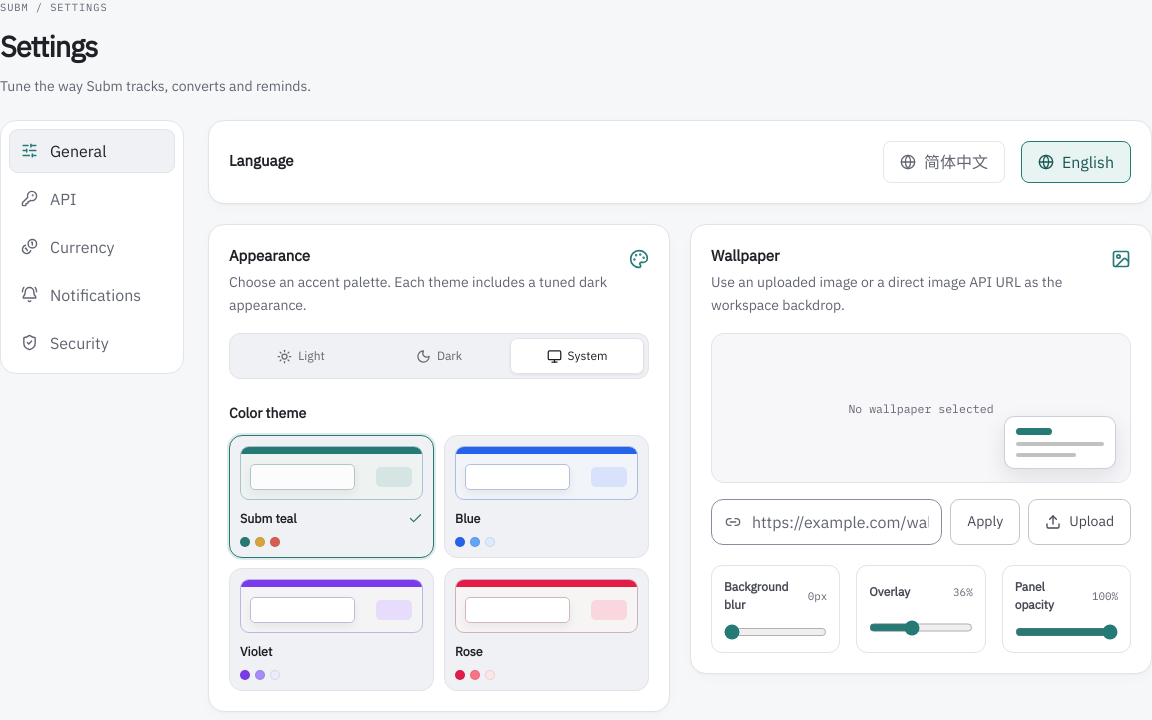
Test: keeps keyboard focus in a settings error dialog and restores it on Escape
Click the button "Security" at (92, 343), box [9,321,175,365]
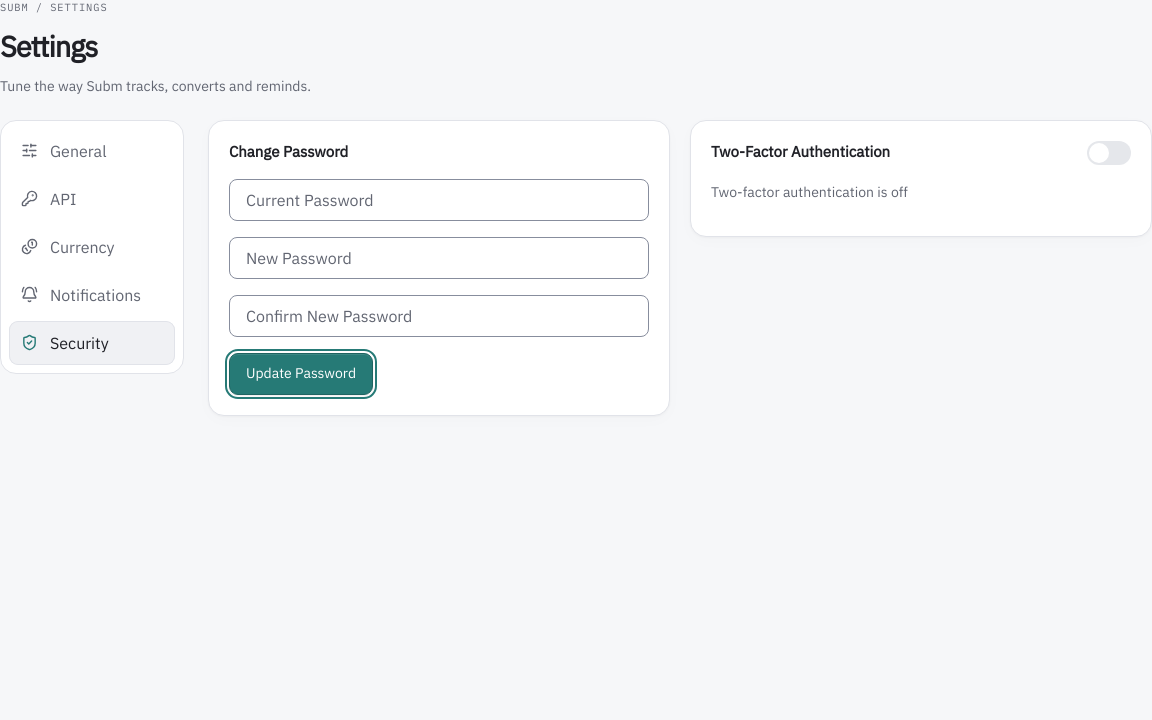
Click the button "Update Password" at (301, 374), box [229,353,373,395]
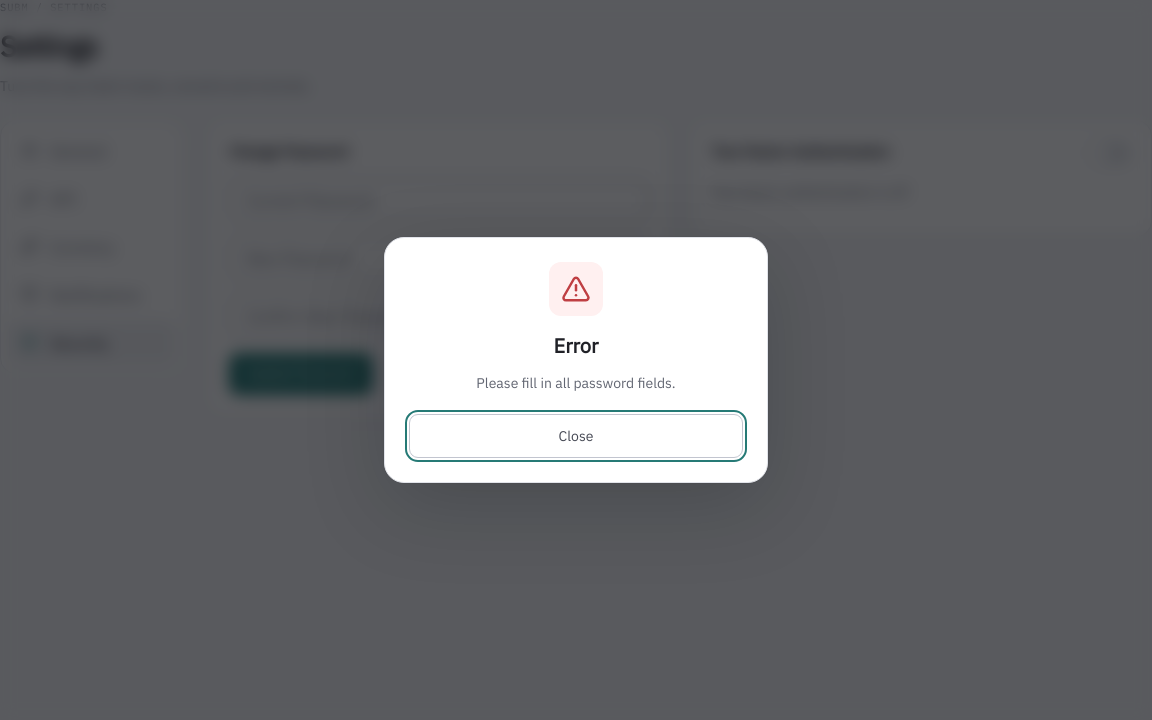
Press Tab in the button "Close", box [409,414,743,458]
Press Escape in the button "Close", box [409,414,743,458]
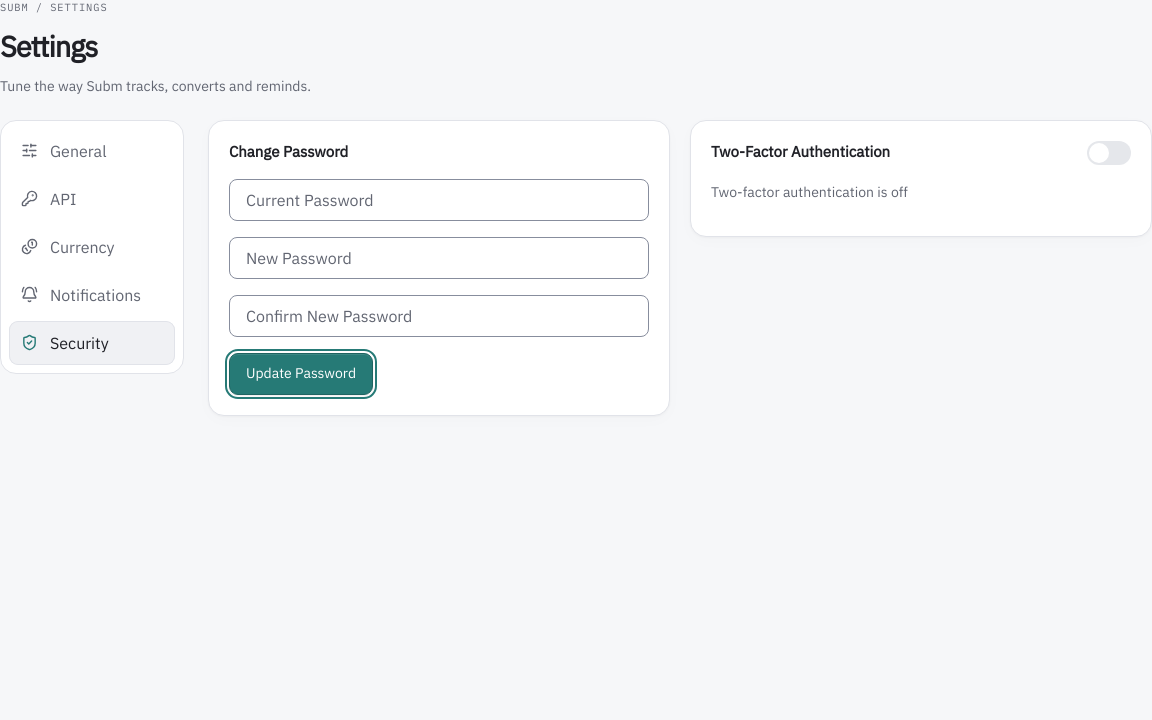
expect the dialog is gone: met
